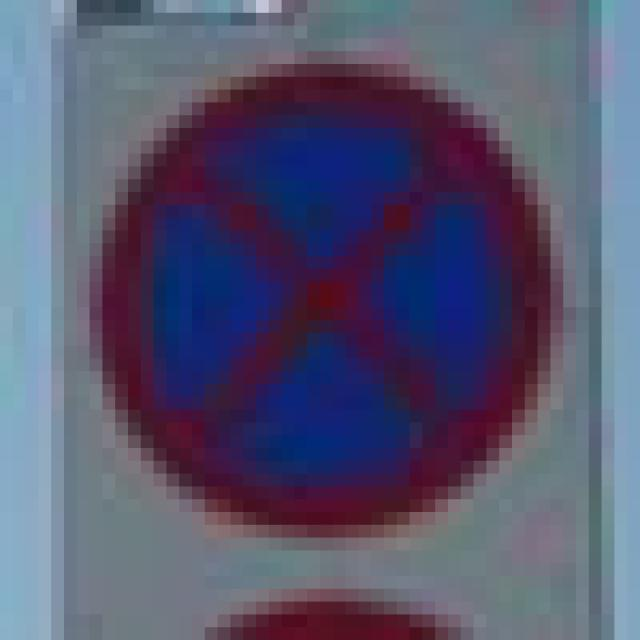no_parking: (76, 51, 538, 525)
